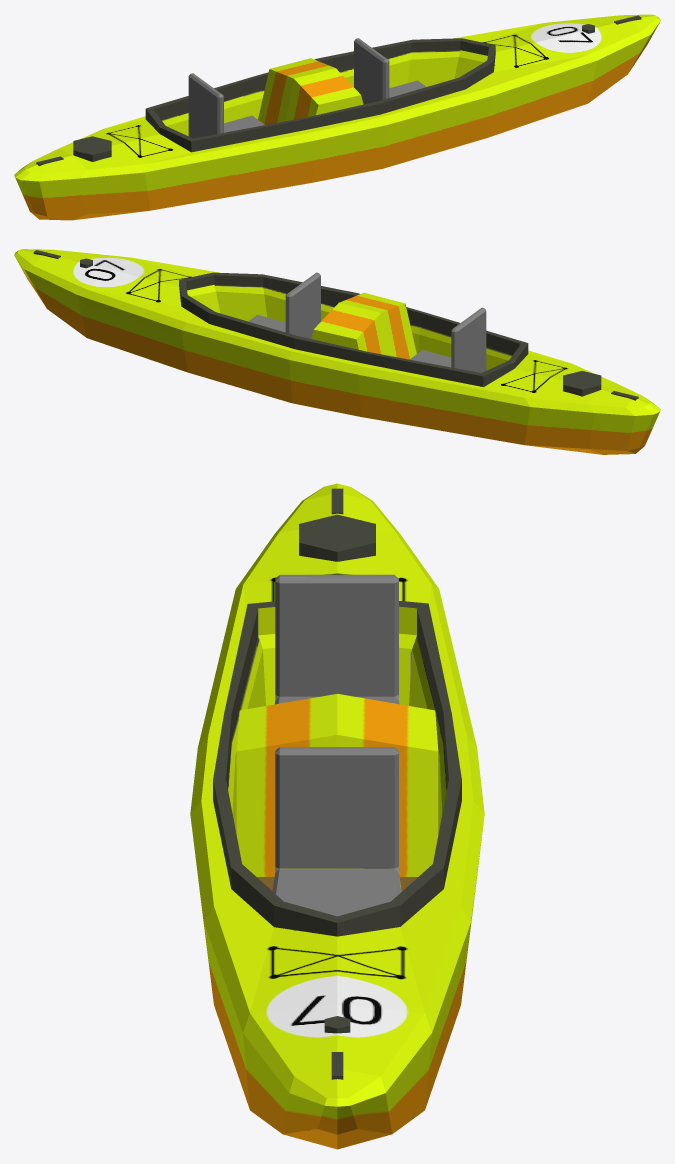
Rendered from kayak_model.fbx.
3 renders of one model, top to bottom at view 1: azimuth 30°, elevation 25°; view 2: azimuth 150°, elevation 25°; view 3: azimuth 270°, elevation 25°, orthographic. The views are drawn at different scales.
Parts seen in each view (by area): view 1: kayak_model; view 2: kayak_model; view 3: kayak_model.
Boxes of the visible parts, left/top/right/bottom form: kayak_model: left=14, top=14, right=660, bottom=220; kayak_model: left=14, top=249, right=660, bottom=454; kayak_model: left=190, top=483, right=484, bottom=1149.
Size of the model in its own units: 781 by 129 by 155.
